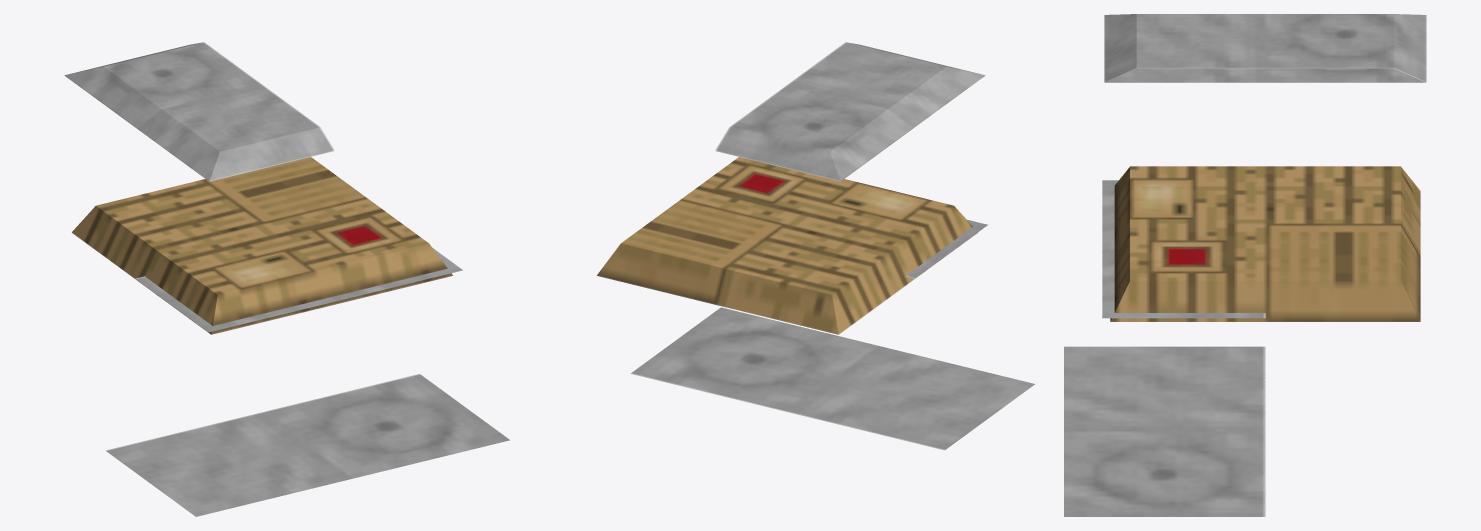
The model's file is Sawmill.obj.
The picture shows the model from 3 angles, left to right: view 1: azimuth 30°, elevation 25°; view 2: azimuth 150°, elevation 25°; view 3: azimuth 270°, elevation 25°; orthographic projection. The views are drawn at different scales.
Parts seen in each view (by area): view 1: Sawmill_Crusher; view 2: Sawmill_Crusher; view 3: Sawmill_Crusher.
Boxes of the visible parts, bbox=[...] form: Sawmill_Crusher: bbox=[64, 42, 509, 516]; Sawmill_Crusher: bbox=[596, 42, 1034, 450]; Sawmill_Crusher: bbox=[1064, 14, 1426, 516].
Size of the model in its own units: 2 by 1.99 by 2.
